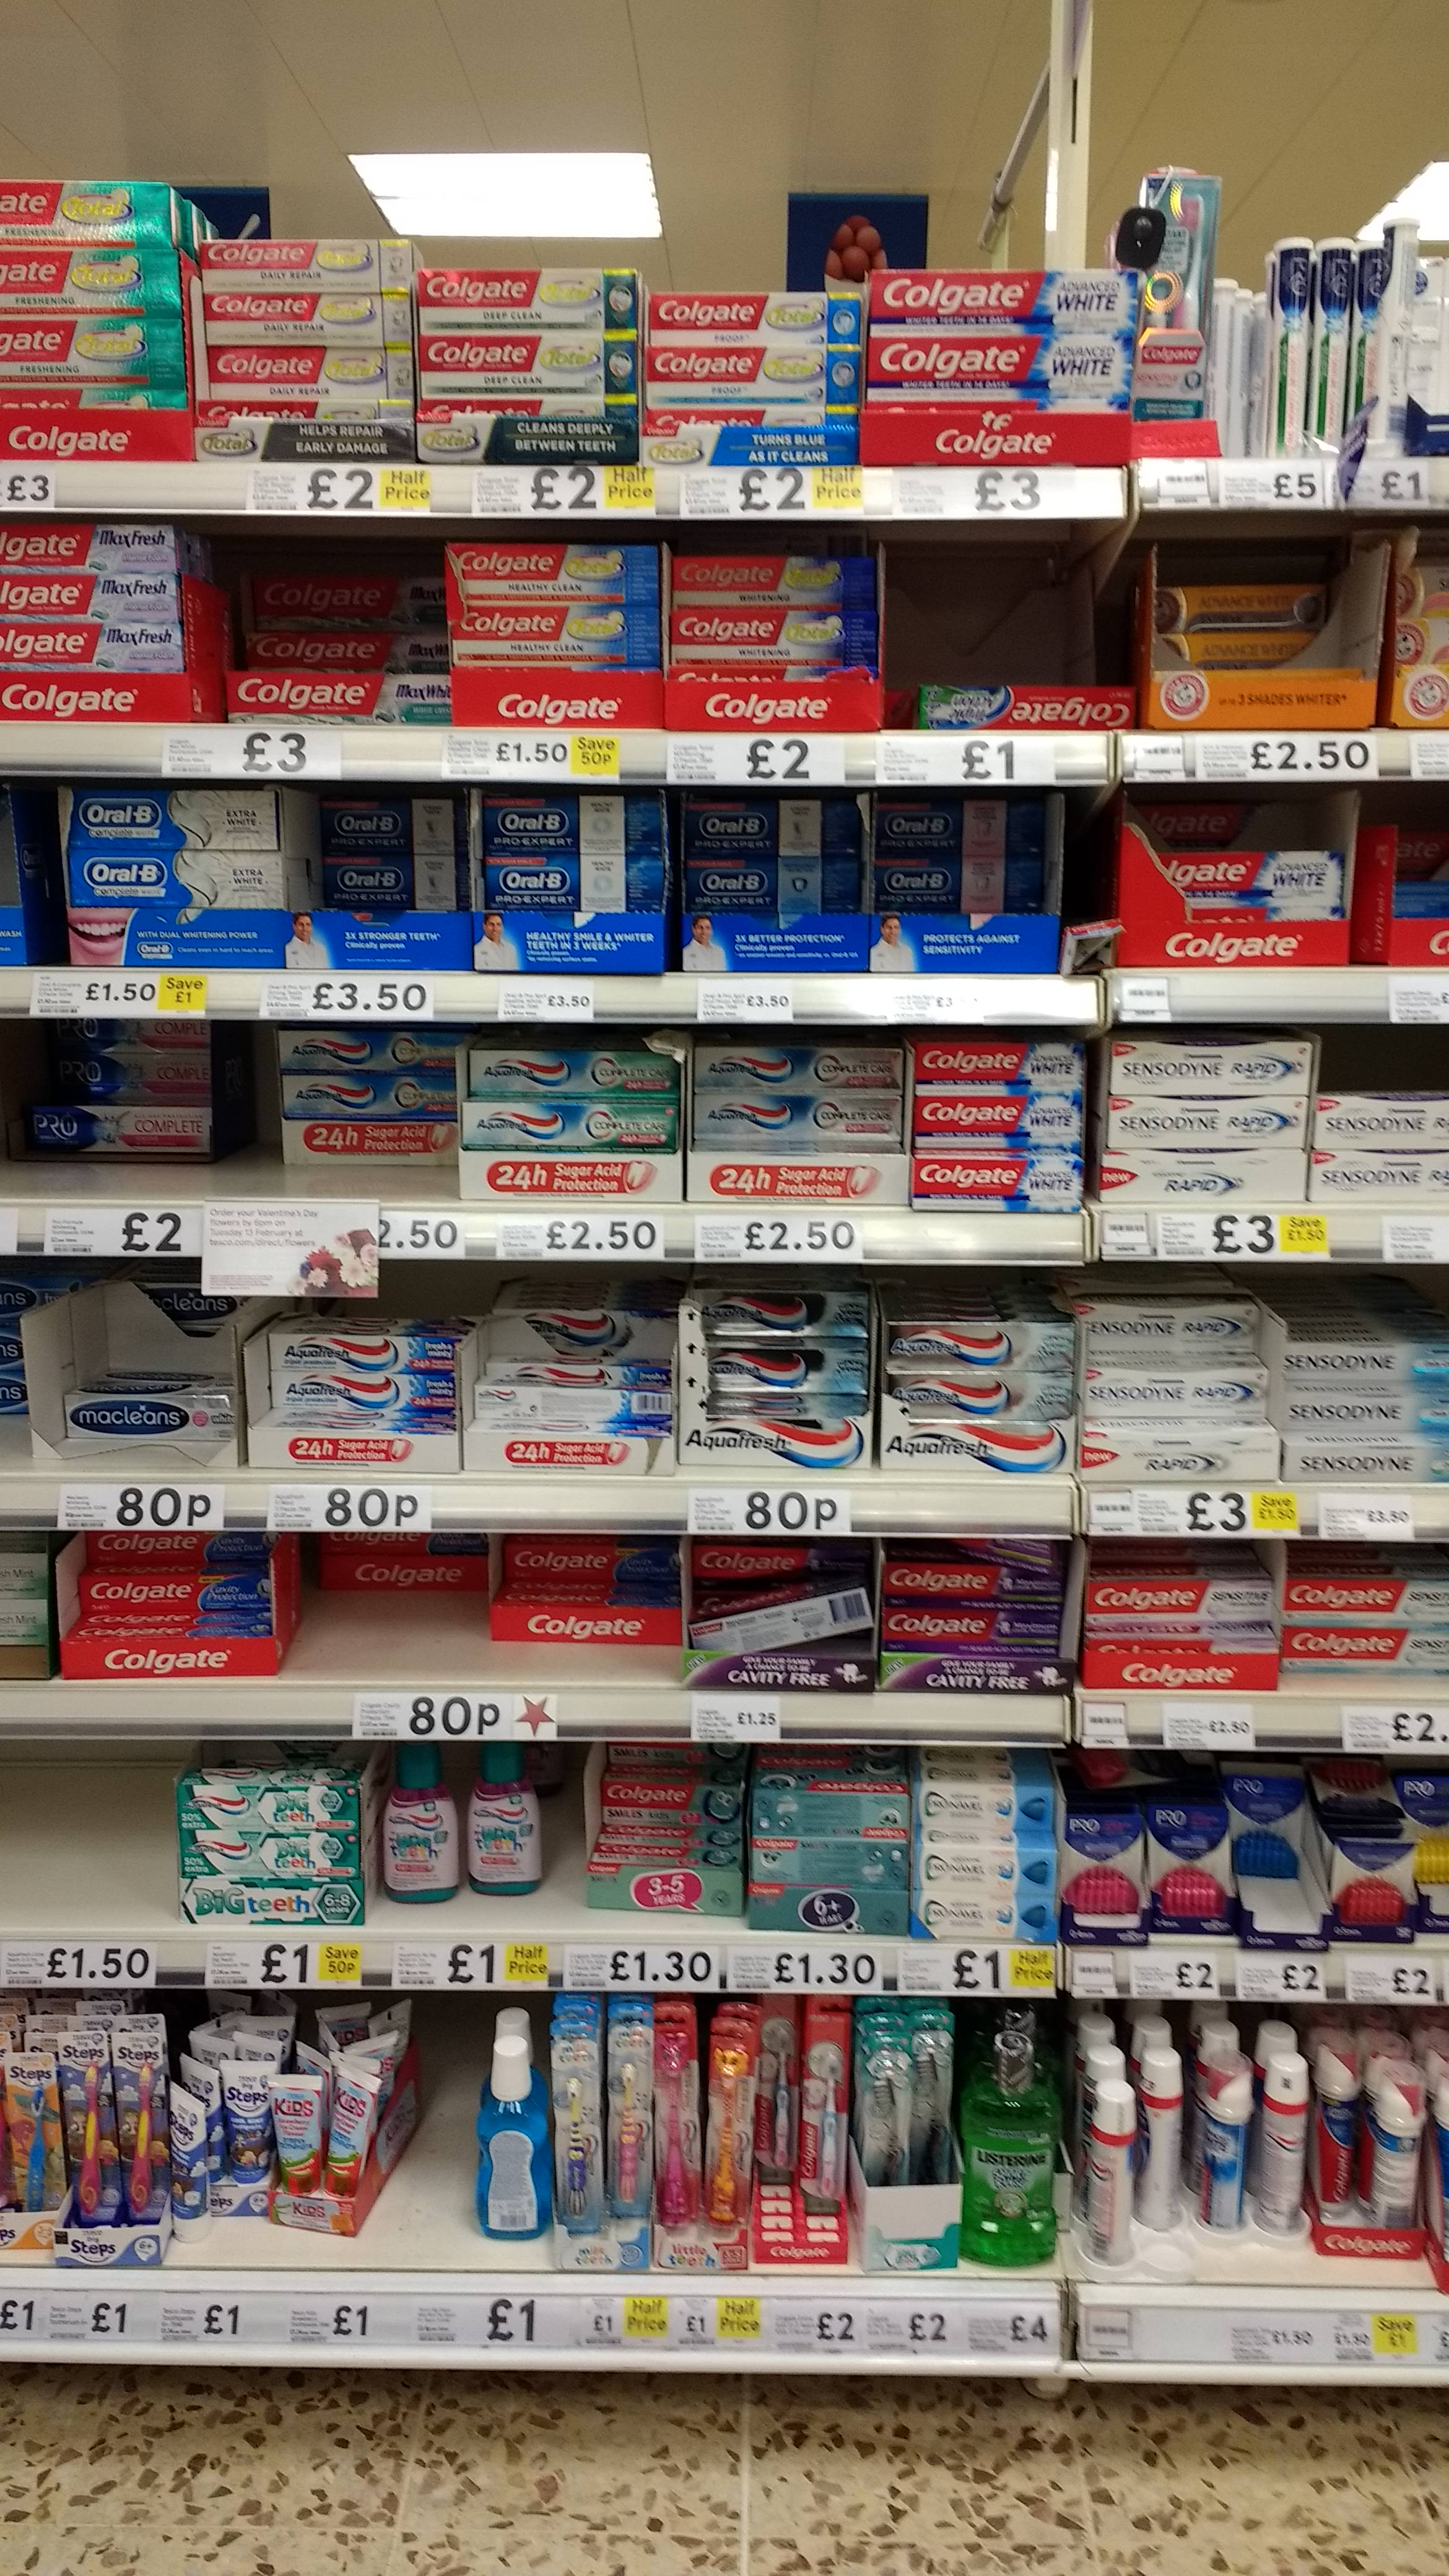product: (959, 2031, 1062, 2261), (1146, 188, 1219, 455), (867, 400, 1131, 469), (870, 336, 1136, 396), (870, 271, 1136, 329), (60, 789, 281, 853), (0, 172, 177, 251), (418, 264, 632, 329), (416, 396, 633, 460), (0, 389, 189, 460), (449, 605, 663, 667), (419, 336, 633, 398), (379, 1739, 460, 1902), (464, 1739, 545, 1898), (644, 350, 862, 409), (451, 541, 660, 602), (200, 403, 412, 460), (0, 320, 179, 387), (460, 1102, 683, 1155), (667, 610, 881, 665), (492, 2033, 548, 2240), (648, 288, 860, 343), (1123, 851, 1350, 902), (200, 237, 418, 290), (241, 573, 442, 630), (481, 855, 665, 916), (0, 255, 184, 317), (1122, 796, 1336, 849), (1108, 1040, 1320, 1093), (71, 858, 290, 909), (481, 793, 665, 853), (1251, 2058, 1313, 2236), (60, 2038, 110, 2261), (1104, 1150, 1311, 1203), (207, 349, 412, 402), (911, 1088, 1092, 1148), (692, 1095, 901, 1146), (648, 414, 855, 465), (471, 1051, 683, 1100), (203, 295, 416, 345), (674, 556, 876, 607), (1106, 1095, 1315, 1145), (1270, 234, 1315, 464), (874, 796, 1042, 856), (674, 796, 858, 851), (223, 678, 448, 722), (177, 1826, 361, 1879), (692, 1047, 911, 1092), (1081, 2091, 1136, 2268), (1088, 1366, 1274, 1417), (1085, 1576, 1292, 1622), (1152, 1810, 1235, 1923), (0, 518, 172, 573), (683, 858, 860, 911), (119, 2033, 159, 2263), (4, 2061, 51, 2256), (23, 1104, 209, 1154), (892, 1318, 1076, 1368), (879, 858, 1051, 911), (1315, 2040, 1364, 2222), (0, 623, 182, 672), (915, 1159, 1090, 1210), (1315, 234, 1353, 464), (64, 1399, 244, 1449), (658, 2024, 701, 2233), (172, 1782, 361, 1828), (881, 1603, 1063, 1651), (1376, 2068, 1424, 2250), (0, 573, 180, 621), (1376, 216, 1412, 455), (1136, 2054, 1187, 2219), (867, 2043, 904, 2270), (1200, 2058, 1246, 2240), (274, 1024, 462, 1069), (697, 1599, 870, 1647), (1145, 633, 1339, 676), (922, 688, 1134, 727), (895, 1369, 1074, 1415), (918, 2040, 954, 2270), (21, 1058, 212, 1100), (1085, 1309, 1267, 1353), (267, 1332, 456, 1375), (278, 1074, 458, 1118), (244, 630, 446, 669), (495, 1307, 672, 1352), (752, 1787, 909, 1836), (1292, 1629, 1449, 1679), (1292, 1576, 1449, 1626), (803, 2017, 842, 2217), (1067, 1813, 1138, 1923), (699, 1292, 867, 1338), (915, 1040, 1088, 1085), (322, 855, 456, 911), (1343, 1840, 1415, 1944), (915, 1891, 1053, 1946), (1284, 1389, 1449, 1435), (881, 1562, 1062, 1603), (1311, 1752, 1403, 1831), (697, 1346, 867, 1389), (1322, 1095, 1449, 1152), (315, 800, 455, 851), (715, 2040, 752, 2233), (1281, 1339, 1449, 1382), (755, 2013, 796, 2187), (271, 1380, 460, 1417), (329, 2066, 372, 2231), (278, 2081, 324, 2231), (915, 1840, 1062, 1886), (750, 1840, 908, 1882), (918, 1776, 1053, 1826), (19, 1017, 207, 1053), (1288, 1444, 1449, 1484), (559, 2047, 594, 2231), (1143, 586, 1327, 621), (506, 1545, 685, 1580), (607, 2031, 640, 2219), (600, 1776, 731, 1824), (318, 1555, 487, 1592), (1315, 1155, 1449, 1201), (699, 1543, 872, 1578), (223, 2070, 264, 2217), (88, 1532, 276, 1564), (474, 1389, 672, 1419), (1240, 1780, 1299, 1881), (78, 1580, 271, 1610), (485, 1355, 665, 1387), (315, 1525, 485, 1557), (600, 1725, 738, 1764), (170, 2098, 205, 2243), (1085, 1744, 1132, 1798), (1136, 1748, 1187, 1790)
